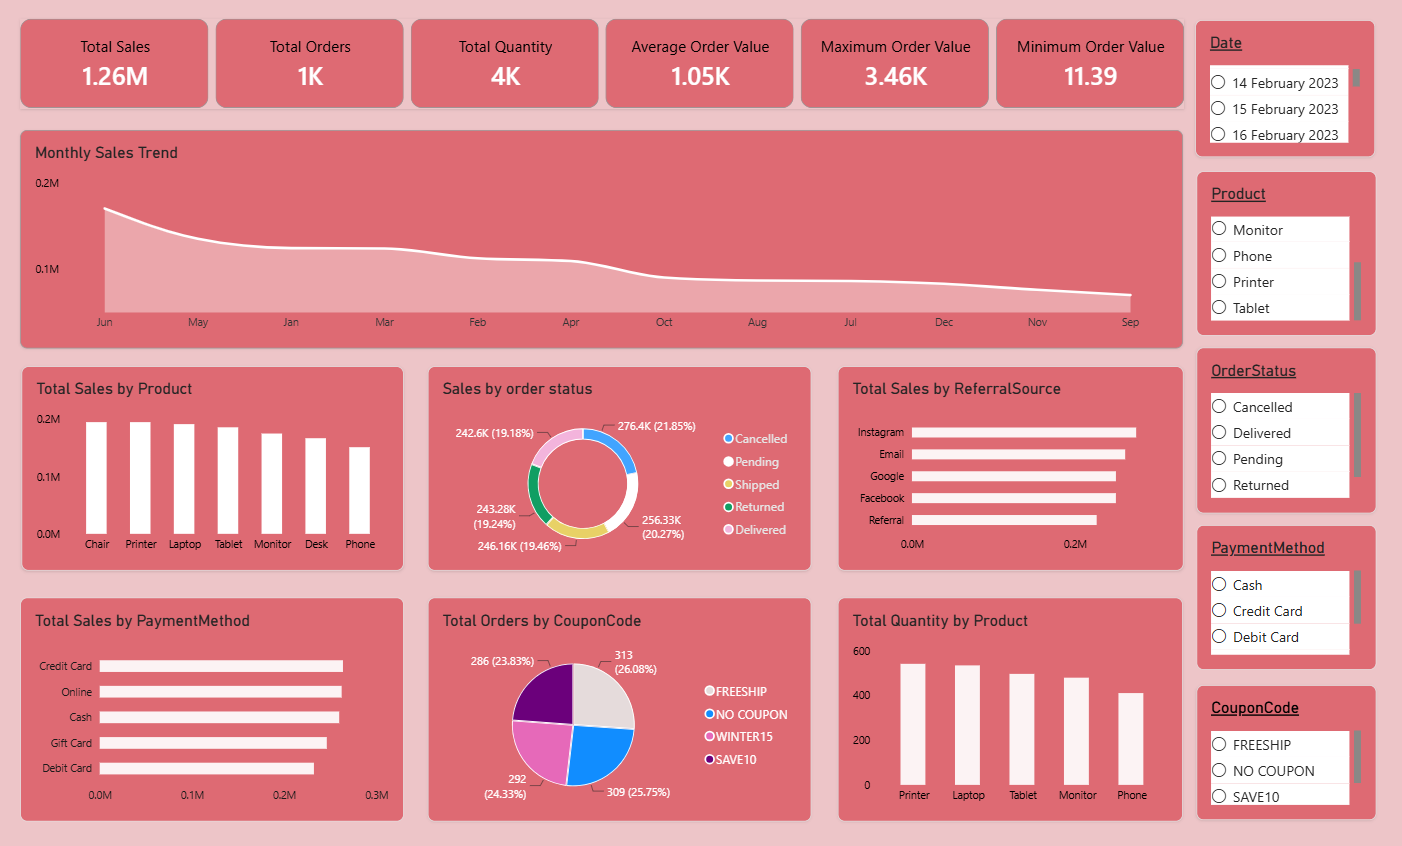

This screenshot's page, from the dashboard's own definition file:
{"tool":"powerbi","page":{"name":"Page 1","canvas":[1920,1080],"ordinal":0},"visuals":[{"type":"cardVisual","fields":{"Data":["D.Total Sales","D.Total Orders","D.Total Quantity","D.Average Order Value","D.Maximum Order Value","D.Minimum Order Value"]},"box":[24.3,21.4,1330,102.9],"z":0},{"type":"clusteredColumnChart","fields":{"Category":["D.Product"],"Y":["D.Total Sales"]},"box":[25,419,436.9,233.3],"z":1000},{"type":"lineChart","title":"Monthly Sales Trend","fields":{"Category":["D.Month"],"Y":["D.Total Sales"]},"box":[24.3,148.6,1328.6,249.4],"z":2000},{"type":"donutChart","title":"Sales by order status","fields":{"Category":["D.OrderStatus"],"Y":["D.Total Sales"]},"box":[489.3,419,438.1,233.3],"z":3000},{"type":"clusteredBarChart","fields":{"Category":["D.PaymentMethod"],"Y":["D.Total Sales"]},"box":[23.8,682.1,438.1,256],"z":4000},{"type":"barChart","fields":{"Category":["D.ReferralSource"],"Y":["D.Total Sales"]},"box":[958.3,419,395.2,233.3],"z":5000},{"type":"columnChart","fields":{"Category":["D.Product"],"Y":["D.Total Quantity"]},"box":[958.3,682.1,394,256],"z":6000},{"type":"pieChart","fields":{"Category":["D.CouponCode"],"Y":["D.Total Orders"]},"box":[489.3,682.1,438.1,256],"z":7000},{"type":"listSlicer","fields":{"Values":["D.Date"]},"box":[1366.7,22.6,206,157.1],"z":8000},{"type":"listSlicer","fields":{"Values":["D.Product"]},"box":[1369,195.2,206,188.1],"z":9000},{"type":"listSlicer","fields":{"Values":["D.OrderStatus"]},"box":[1369,397.6,206,189.3],"z":10000},{"type":"listSlicer","fields":{"Values":["D.PaymentMethod"]},"box":[1369,600,206,165.5],"z":11000},{"type":"listSlicer","fields":{"Values":["D.CouponCode"]},"box":[1369,783.3,206,154.8],"z":12000}]}

Visuals, with their boxes on the page's 1920x1080 design canvas (x1, y1, x2, y2). These are canvas units, not pixel positions in the 1402x846 screenshot, which may show the page scaled, cropped or inside an application window:
cardVisual - D.Total Sales x D.Total Orders: detection(24, 21, 1354, 124)
clusteredColumnChart - D.Product x D.Total Sales: detection(25, 419, 462, 652)
"Monthly Sales Trend" lineChart: detection(24, 149, 1353, 398)
"Sales by order status" donutChart: detection(489, 419, 927, 652)
clusteredBarChart - D.PaymentMethod x D.Total Sales: detection(24, 682, 462, 938)
barChart - D.ReferralSource x D.Total Sales: detection(958, 419, 1354, 652)
columnChart - D.Product x D.Total Quantity: detection(958, 682, 1352, 938)
pieChart - D.CouponCode x D.Total Orders: detection(489, 682, 927, 938)
listSlicer - D.Date: detection(1367, 23, 1573, 180)
listSlicer - D.Product: detection(1369, 195, 1575, 383)
listSlicer - D.OrderStatus: detection(1369, 398, 1575, 587)
listSlicer - D.PaymentMethod: detection(1369, 600, 1575, 766)
listSlicer - D.CouponCode: detection(1369, 783, 1575, 938)
